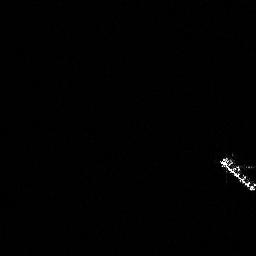ship: (220, 156, 256, 194)
